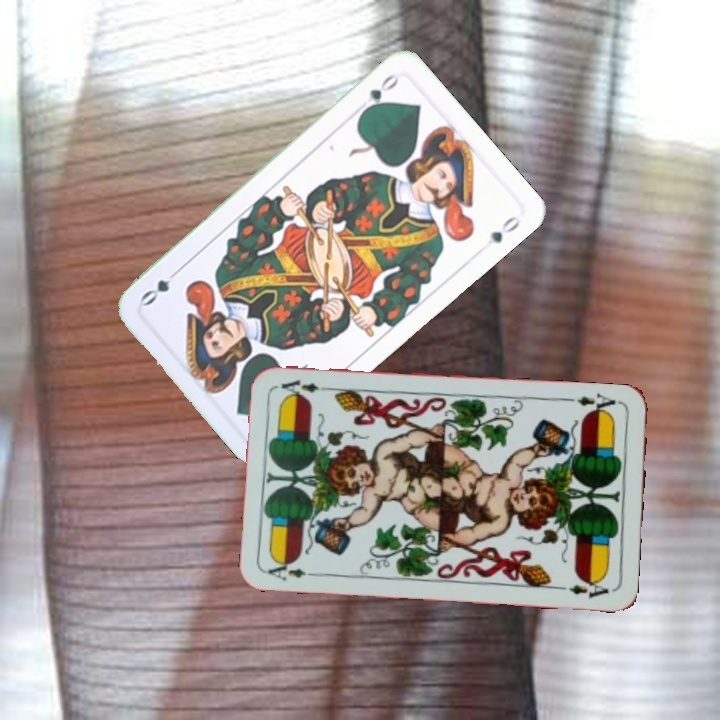EA: (264, 556, 322, 583), (573, 390, 618, 418)
GO: (357, 69, 402, 117)
